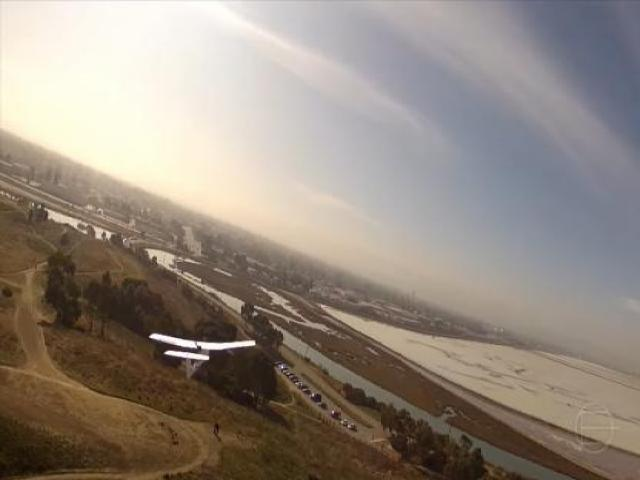uav: (145, 322, 260, 390)
